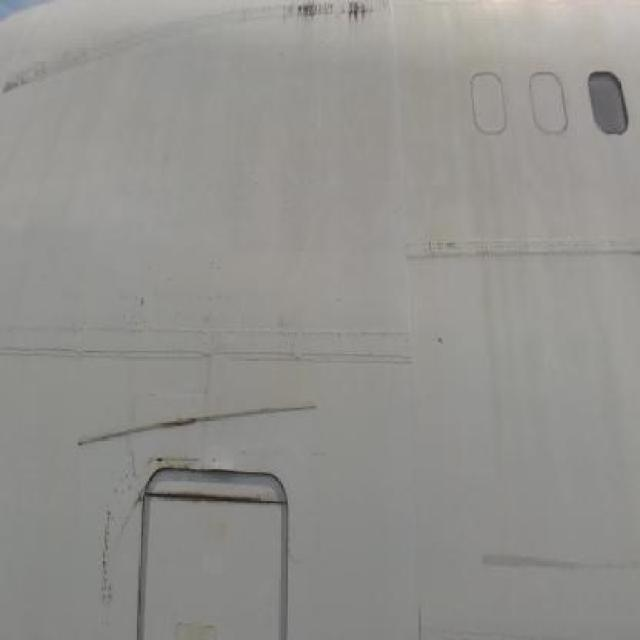Rust: (276, 0, 409, 48)
Scartch: (4, 52, 79, 110)
